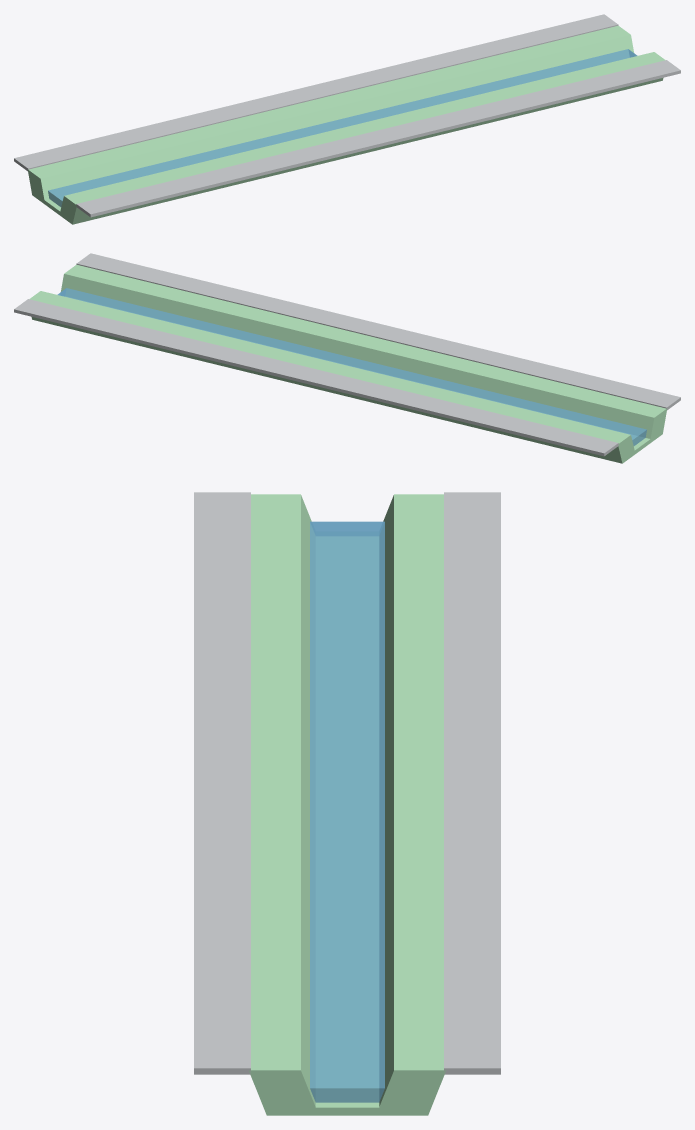
Rendered from drainage-channel.glb.
The picture shows the model from 3 angles, top to bottom: view 1: azimuth 30°, elevation 25°; view 2: azimuth 150°, elevation 25°; view 3: azimuth 270°, elevation 25°; orthographic projection. The views are drawn at different scales.
Visible parts, largest first — view 1: bank-n, berm-s, bank-s, berm-n, water, bed; view 2: bank-s, berm-n, bank-n, berm-s, water; view 3: water, bank-s, bank-n, bed, berm-s, berm-n.
Part boxes in pixels (<box>): bank-n: <box>28,25,633,200</box>; berm-s: <box>76,60,680,217</box>; bank-s: <box>60,52,665,224</box>; berm-n: <box>14,14,618,171</box>; water: <box>48,49,637,207</box>; bed: <box>39,58,626,218</box>; bank-s: <box>61,264,667,439</box>; berm-n: <box>14,299,618,456</box>; bank-n: <box>29,291,635,463</box>; berm-s: <box>76,253,680,410</box>; water: <box>57,288,646,446</box>; water: <box>310,521,384,1102</box>; bank-s: <box>249,494,318,1115</box>; bank-n: <box>376,494,446,1115</box>; bed: <box>296,536,398,1115</box>; berm-s: <box>194,492,250,1074</box>; berm-n: <box>444,492,500,1074</box>.
Size of the model in its own units: 120 by 4.6 by 27.
